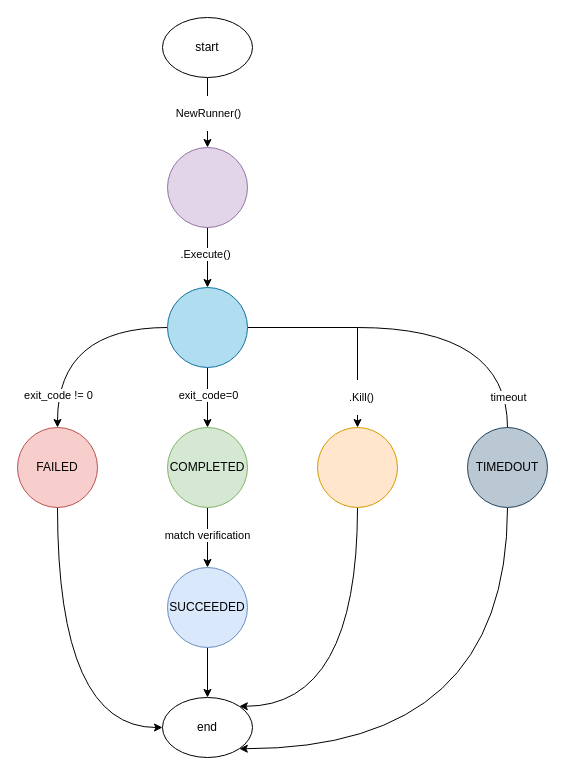
The diagram is 565 pixels wide and 775 high, and some of its shapes have lost their labels. The centre of each missing label's shape, as x and y in pixels:
"KILLED" belongs at point 357,467.
"PENDING" belongs at point 207,187.
"RUNNING" belongs at point 207,327.
